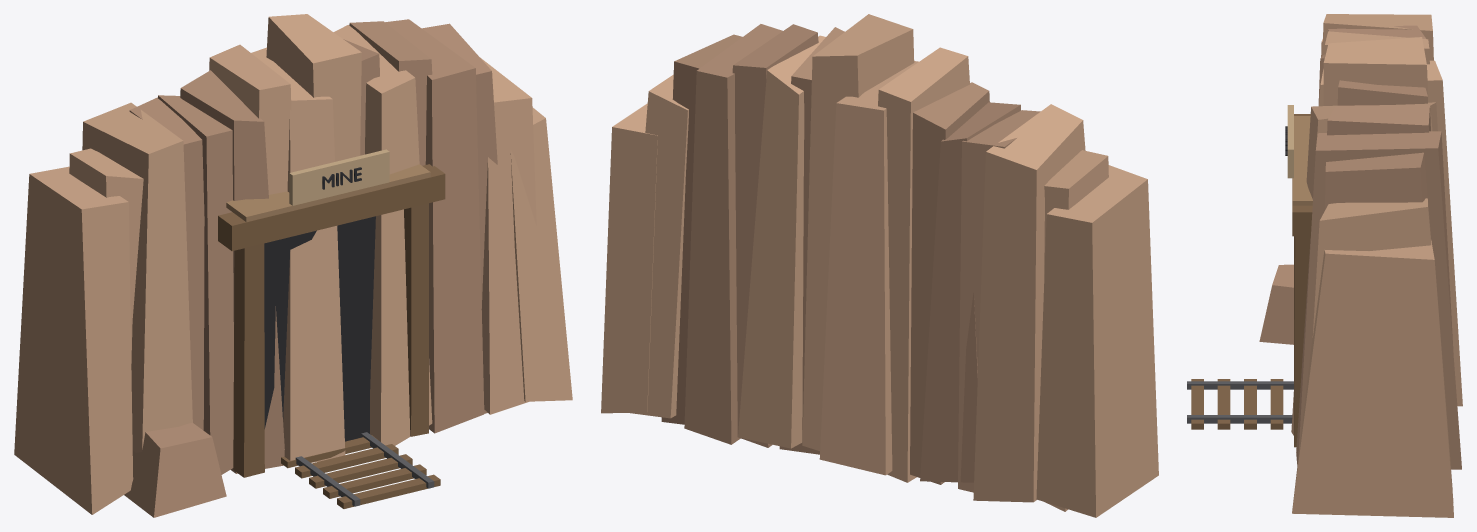
File: SM_Mine_Entrance.glb
3 views of the same model, side by side, from view 1: azimuth 30°, elevation 25°; view 2: azimuth 150°, elevation 25°; view 3: azimuth 270°, elevation 25° (orthographic). The views are drawn at different scales.
Parts seen in each view (by area): view 1: SM_Mine_Entrance; view 2: SM_Mine_Entrance; view 3: SM_Mine_Entrance.
Part boxes in pixels (x1,y1,x2,y2): SM_Mine_Entrance: (14,14,572,517); SM_Mine_Entrance: (601,14,1158,517); SM_Mine_Entrance: (1187,14,1462,517).
Bounding box in the file's own units: 4.94 × 3.91 × 2.61.
